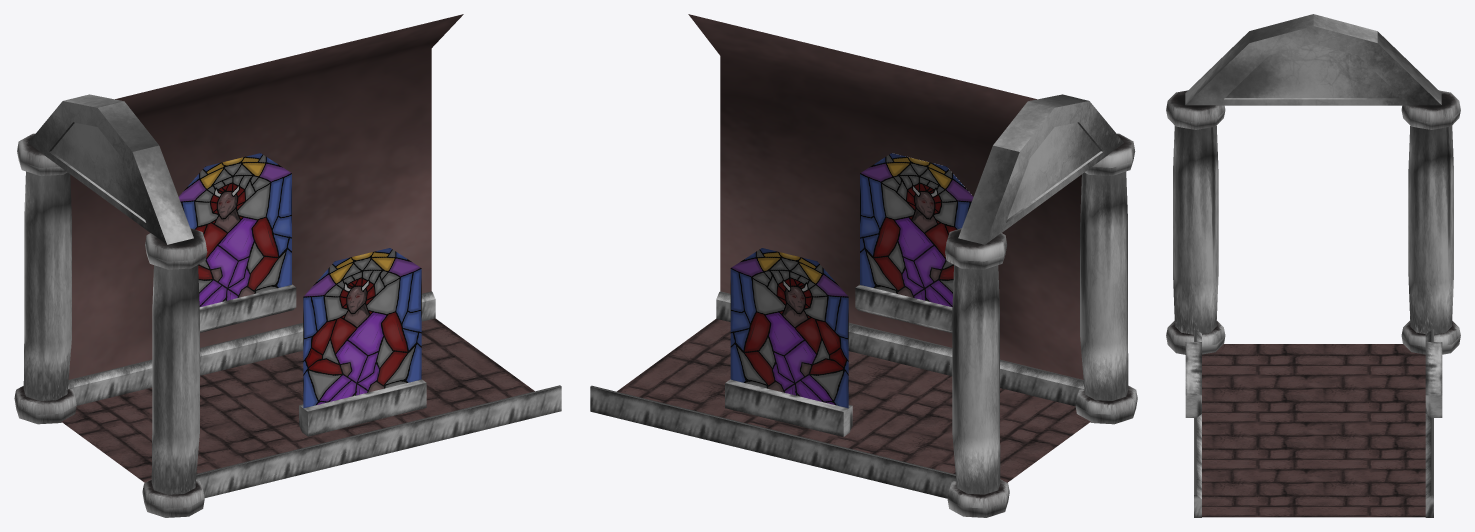
Rendered from MOD_L1_Hallway02.fbx.
3 renders of one model, left to right at view 1: azimuth 30°, elevation 25°; view 2: azimuth 150°, elevation 25°; view 3: azimuth 270°, elevation 25°, orthographic. The views are drawn at different scales.
Parts seen in each view (by area): view 1: Room01_Main.002; view 2: Room01_Main.002; view 3: Room01_Main.002.
Part boxes in pixels (left/top/right/bottom): Room01_Main.002: left=14, top=14, right=561, bottom=517; Room01_Main.002: left=590, top=14, right=1137, bottom=517; Room01_Main.002: left=1166, top=14, right=1460, bottom=517.
Size of the model in its own units: 69.76 by 57.04 by 46.66.
